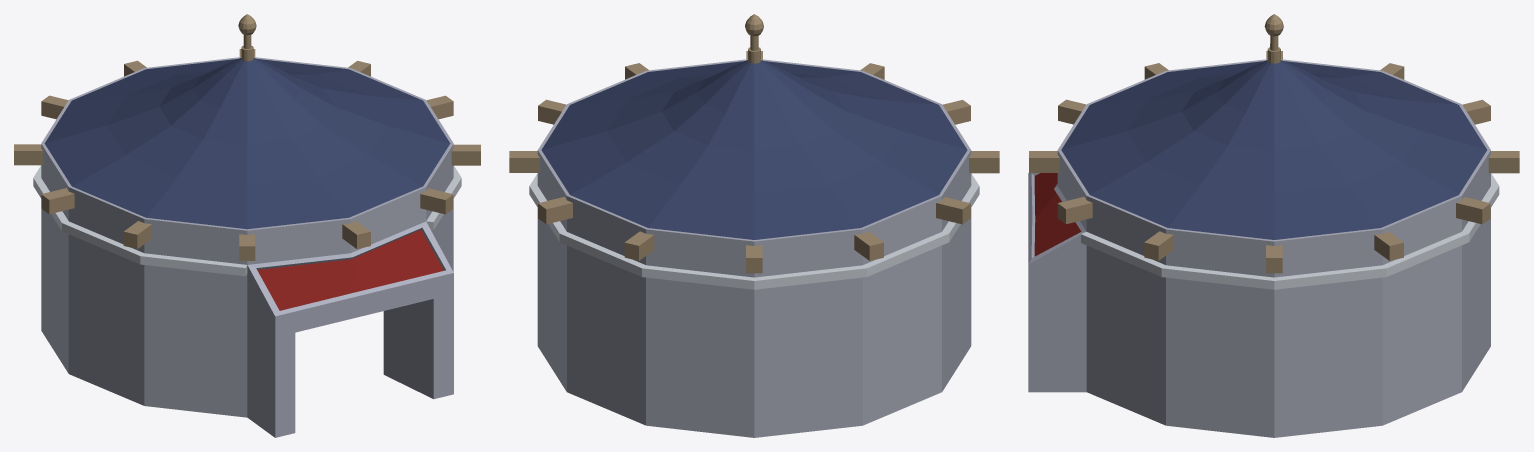
Rendered from Granary.fbx.
3 views of the same model, side by side, from view 1: azimuth 30°, elevation 25°; view 2: azimuth 150°, elevation 25°; view 3: azimuth 270°, elevation 25° (orthographic). The views are drawn at different scales.
Visible parts, largest first — view 1: Granary; view 2: Granary; view 3: Granary.
Boxes of the visible parts, x1,y1,x2,y2 form: Granary: [14, 14, 480, 437]; Granary: [509, 14, 999, 437]; Granary: [1028, 14, 1519, 437].
Size of the model in its own units: 2273 by 1700 by 2276.
